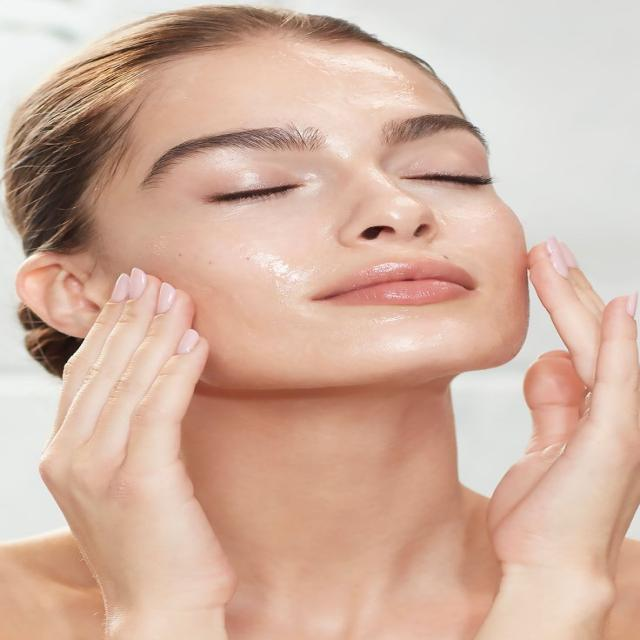oily: (350, 344, 456, 392), (130, 82, 256, 122), (234, 246, 302, 320), (290, 83, 380, 129)
